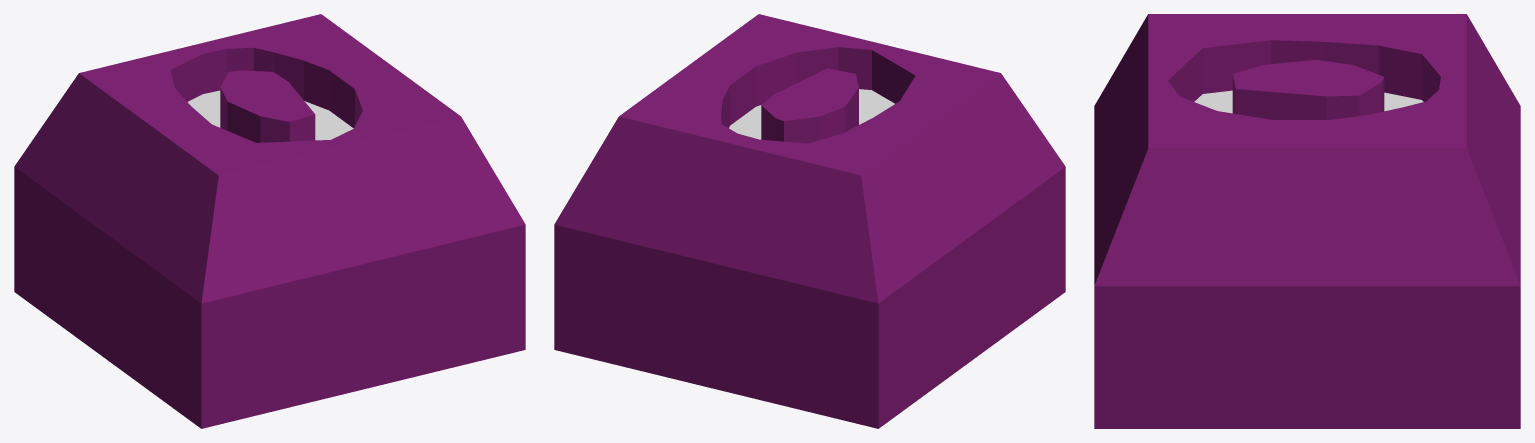
File: Numero0.fbx
The picture shows the model from 3 angles, left to right: view 1: azimuth 30°, elevation 25°; view 2: azimuth 150°, elevation 25°; view 3: azimuth 270°, elevation 25°; orthographic projection. The views are drawn at different scales.
Visible parts, largest first — view 1: Cubo0; view 2: Cubo0; view 3: Cubo0.
Part boxes in pixels (x1,y1,x2,y2): Cubo0: [14, 14, 525, 428]; Cubo0: [554, 14, 1065, 428]; Cubo0: [1094, 14, 1520, 428].
Size of the model in its own units: 15 by 10 by 15.
